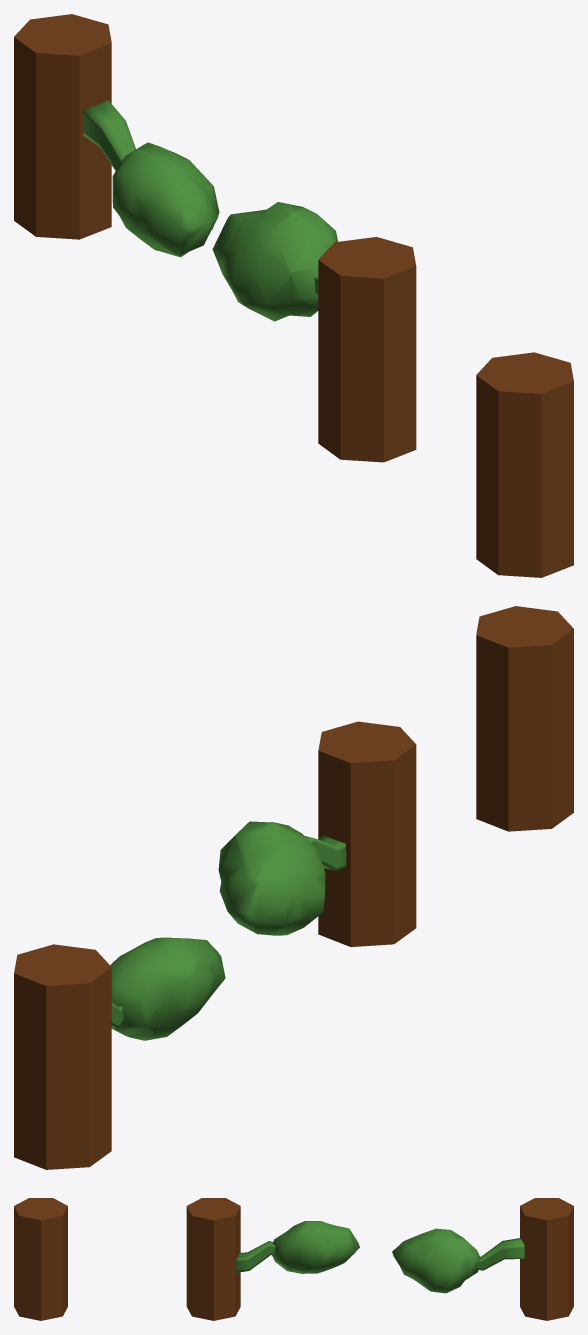
Rendered from main tree.fbx.
3 views of the same model, one above another, from view 1: azimuth 30°, elevation 25°; view 2: azimuth 150°, elevation 25°; view 3: azimuth 270°, elevation 25° (orthographic). The views are drawn at different scales.
Visible parts, largest first — view 1: left, right, center; view 2: left, right, center; view 3: right, left, center.
Part boxes in pixels (bbox=[...]): left: bbox=[212, 202, 416, 462]; right: bbox=[14, 14, 219, 257]; center: bbox=[476, 352, 573, 577]; left: bbox=[218, 721, 416, 946]; right: bbox=[14, 937, 225, 1169]; center: bbox=[476, 606, 573, 831]; right: bbox=[392, 1198, 573, 1320]; left: bbox=[186, 1198, 359, 1320]; center: bbox=[14, 1198, 67, 1320].
Bounding box in the file's own units: 114 × 200 × 1008.
